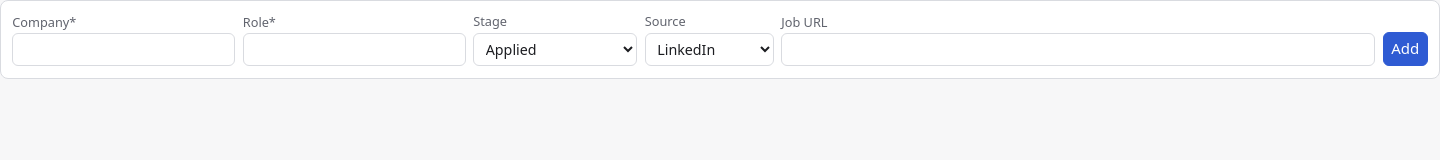
Scenario: QuickAdd › shows server errors and keeps the input
The width and height of the screenshot is (1440, 160).
Type "Acme" into the field labelled "Company*" at coordinates (124, 50), box [12,33,235,66]
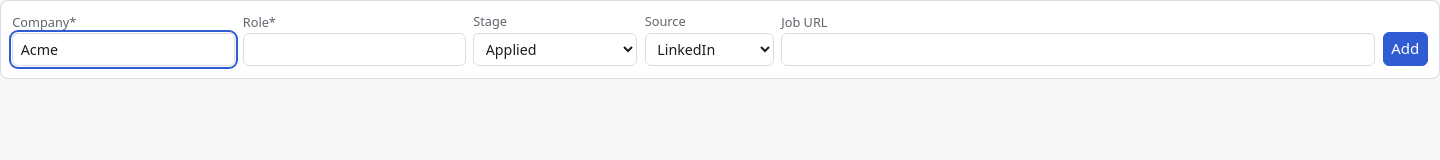
Type "Dev" into the field labelled "Role*" at coordinates (354, 50), box [243,33,466,66]
Then press Enter
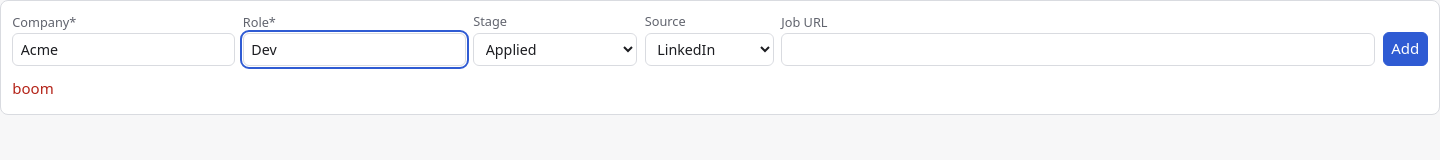
expect the message reads "boom": met, box [12,78,54,98]
